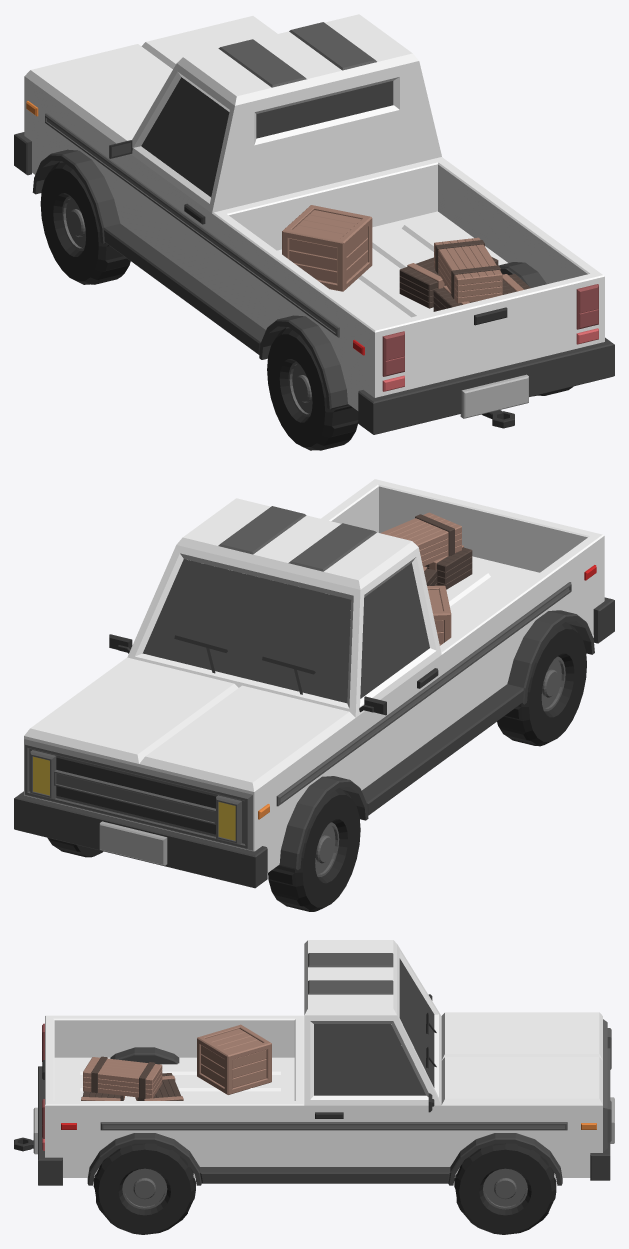
The model's file is pickup.glb.
3 views of the same model, one above another, from view 1: azimuth 30°, elevation 25°; view 2: azimuth 150°, elevation 25°; view 3: azimuth 270°, elevation 25° (orthographic). The views are drawn at different scales.
Parts seen in each view (by area): view 1: paint, body, wheel_rl, wheel_fl; view 2: paint, body, wheel_fl, wheel_rl; view 3: paint, body, wheel_fr, wheel_rr.
Part boxes in pixels (x1,y1,x2,y2): paint: (24,14,604,410); body: (14,22,614,434); wheel_rl: (267,327,358,450); wheel_fl: (40,161,130,284); paint: (24,479,604,872); body: (14,506,614,888); wheel_fl: (268,787,360,911); wheel_rl: (497,622,586,746); paint: (45,940,602,1177); body: (14,953,614,1185); wheel_fr: (454,1143,556,1234); wheel_rr: (93,1143,195,1234).
Size of the model in its own units: 1.82 by 1.69 by 4.3.
